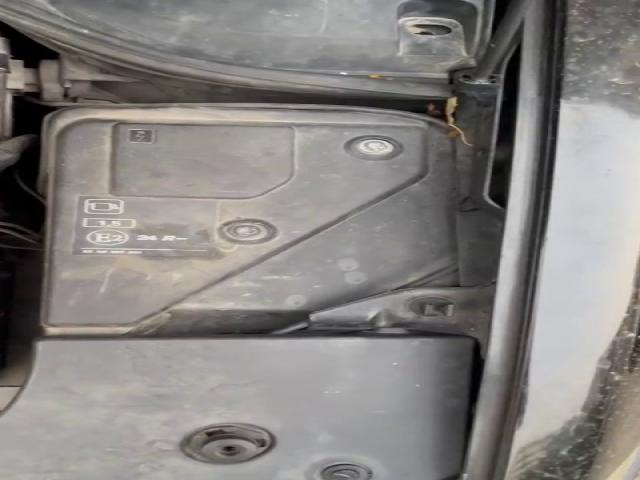fuse_box: (45, 120, 445, 326)
